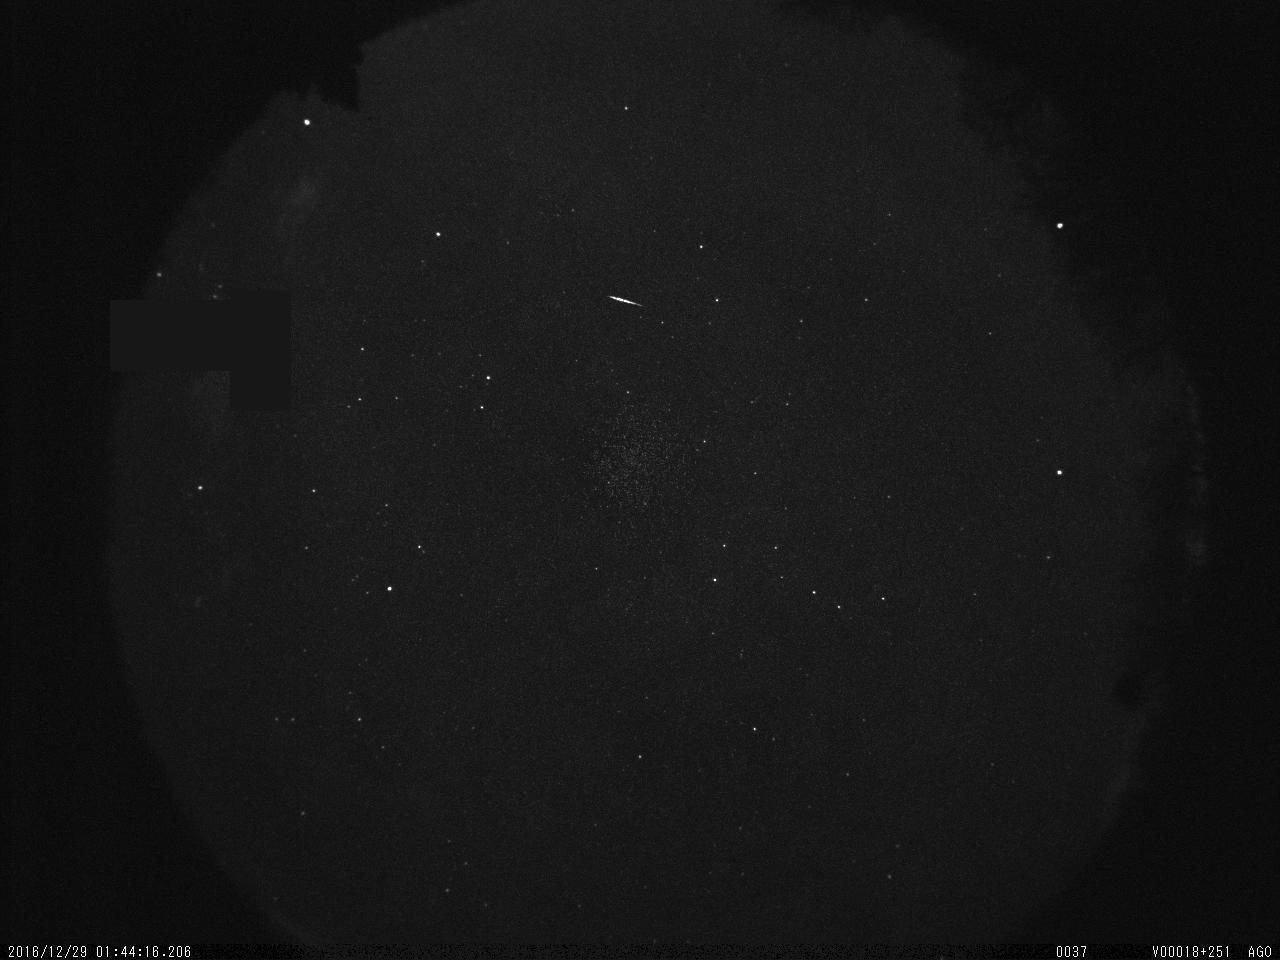Meteor: (604, 288, 644, 313)
